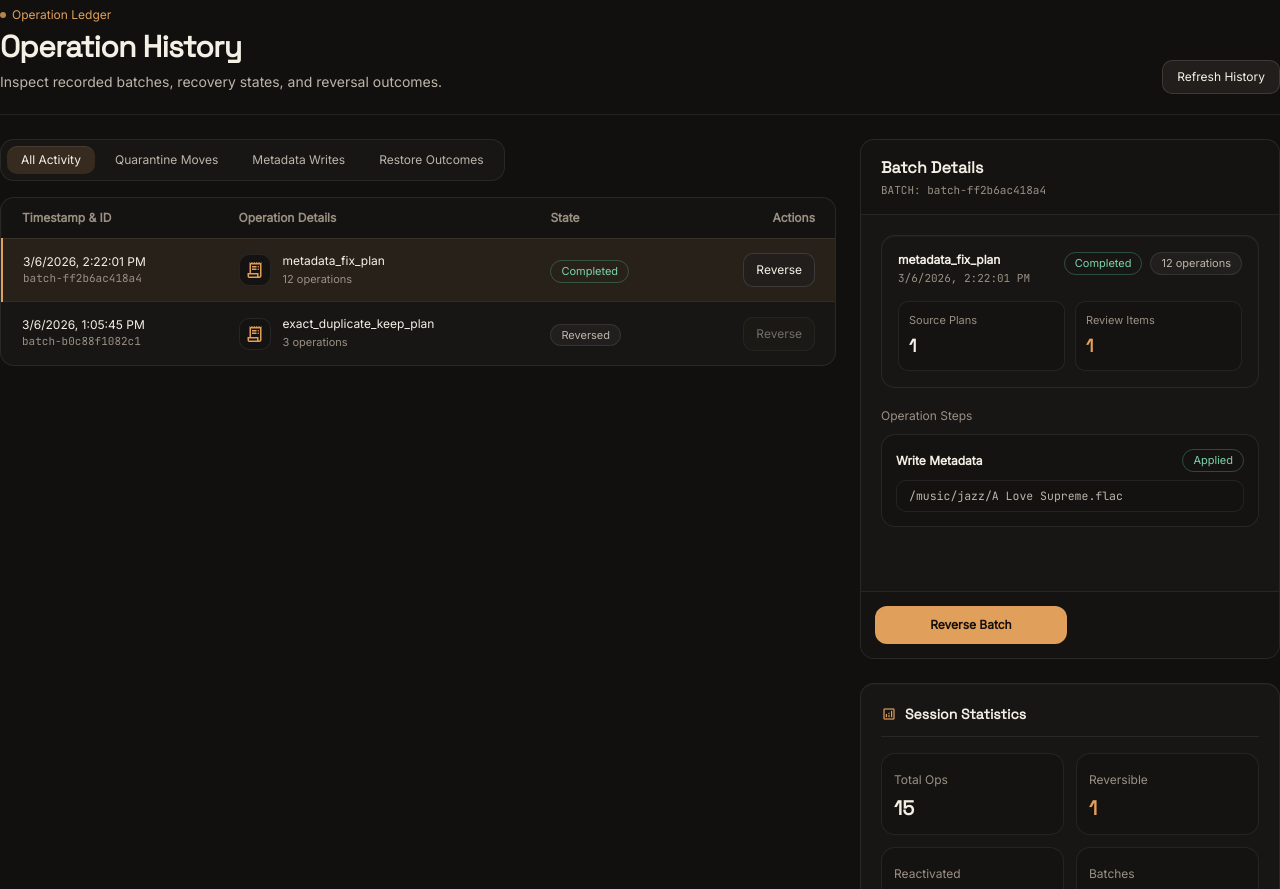
Scenario: History Page › opens reversal confirmation dialog, traps focus, and closes on cancel with focus restoration
This screenshot has width=1280, height=889.
Click the button "Reverse Batch" at (971, 625), box [877, 608, 1065, 642]
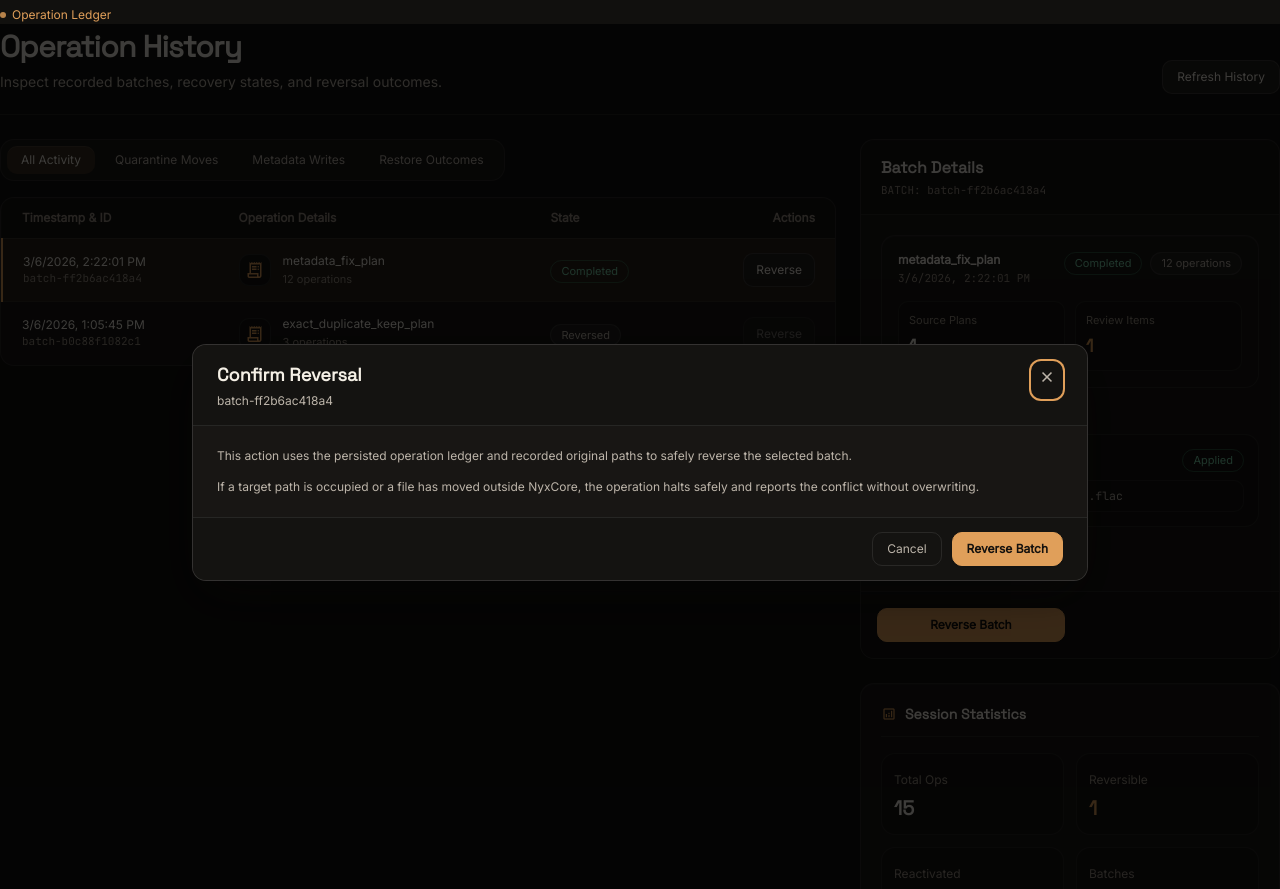
Now the dialog "Confirm Reversal" is shown, box [192, 344, 1088, 580]
Click the button "Cancel" at (907, 548), box [872, 532, 942, 566]
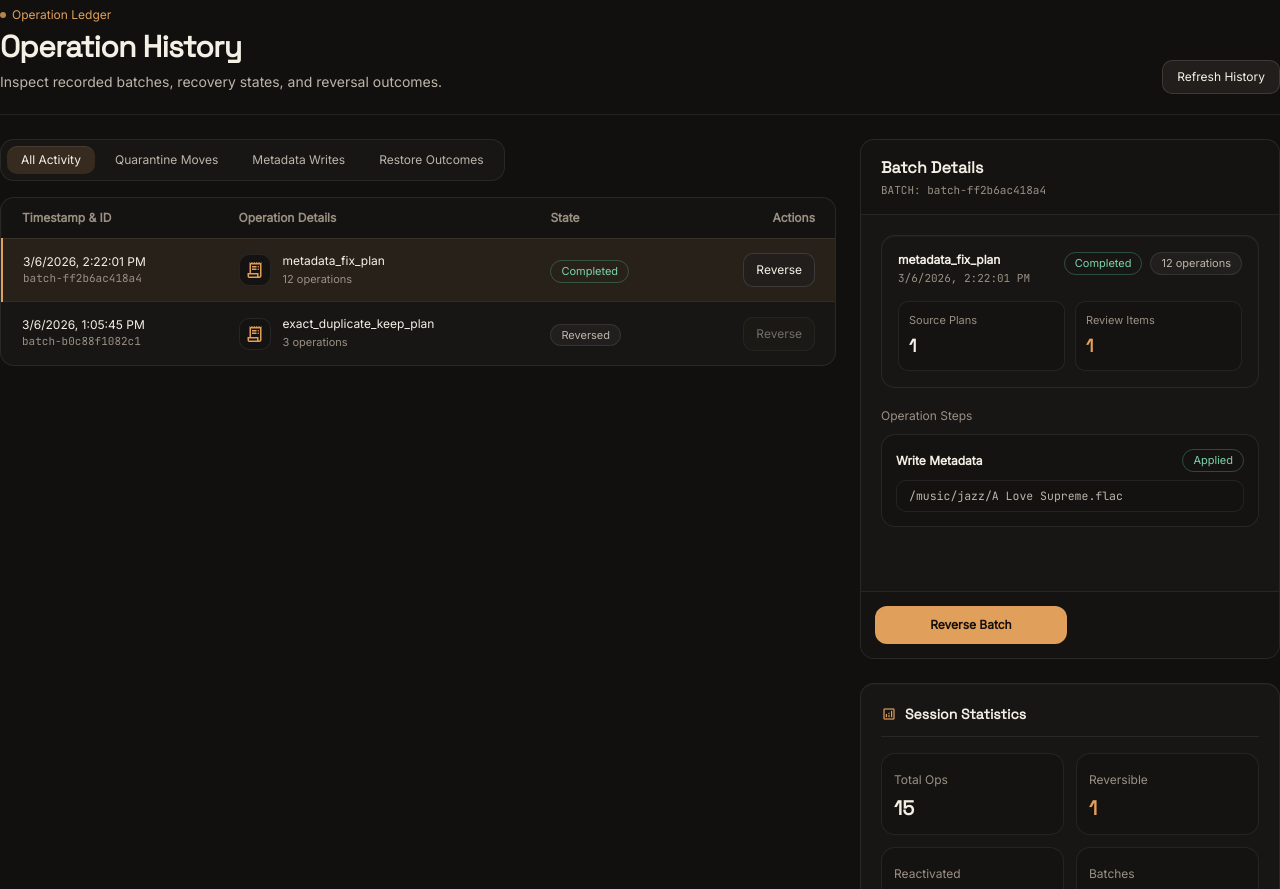
Now the heading "Confirm Reversal" is gone
